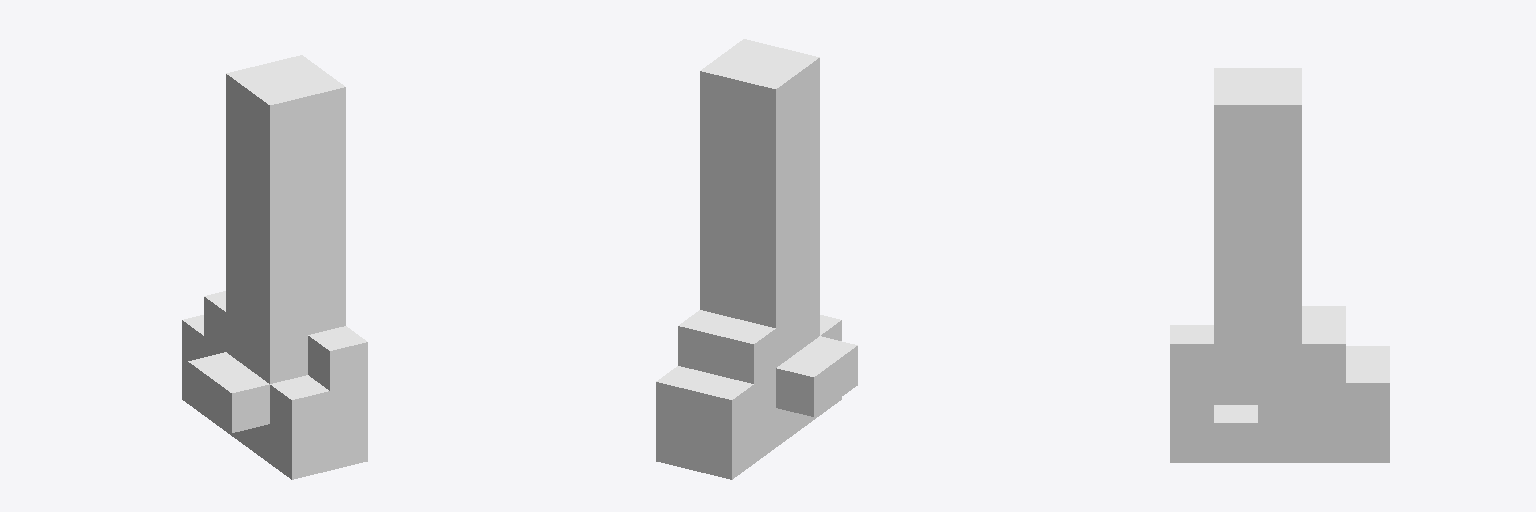
The model's file is JAMBE-L.obj.
The picture shows the model from 3 angles: view 1: azimuth 30°, elevation 25°; view 2: azimuth 150°, elevation 25°; view 3: azimuth 270°, elevation 25°; orthographic projection.
Parts seen in each view (by area): view 1: object 1; view 2: object 1; view 3: object 1.
Boxes of the visible parts, <box> form: object 1: <box>182,55,367,479</box>; object 1: <box>656,39,857,479</box>; object 1: <box>1170,68,1389,462</box>.
Size of the model in its own units: 0.3 by 0.9 by 0.5.